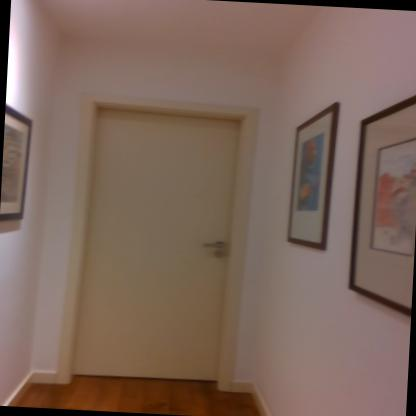closed: (56, 80, 277, 400)
